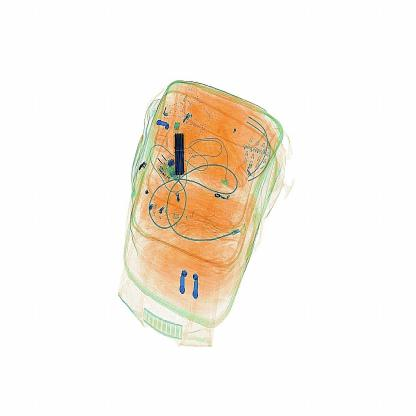scissors: (162, 118, 198, 182)
